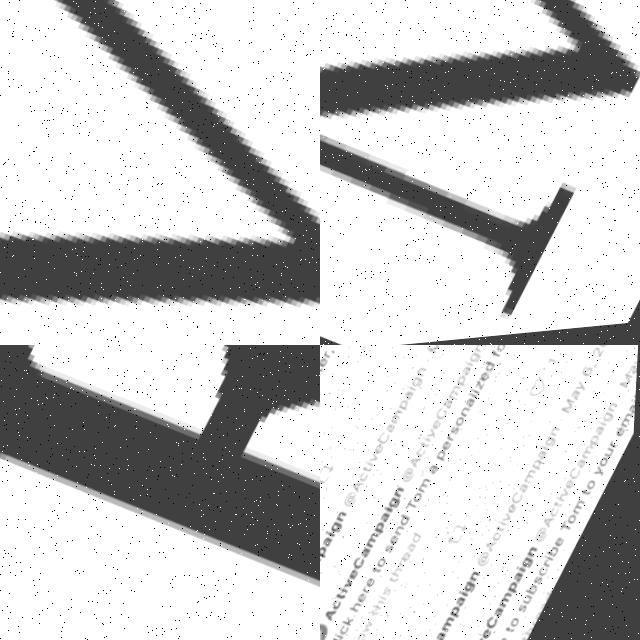0: (598, 346, 613, 361)
1: (549, 367, 560, 377)
2: (593, 356, 607, 371), (604, 345, 617, 350)
6: (583, 376, 596, 389)
M: (320, 0, 640, 345)
R: (0, 345, 320, 640)
V: (0, 0, 320, 345)
